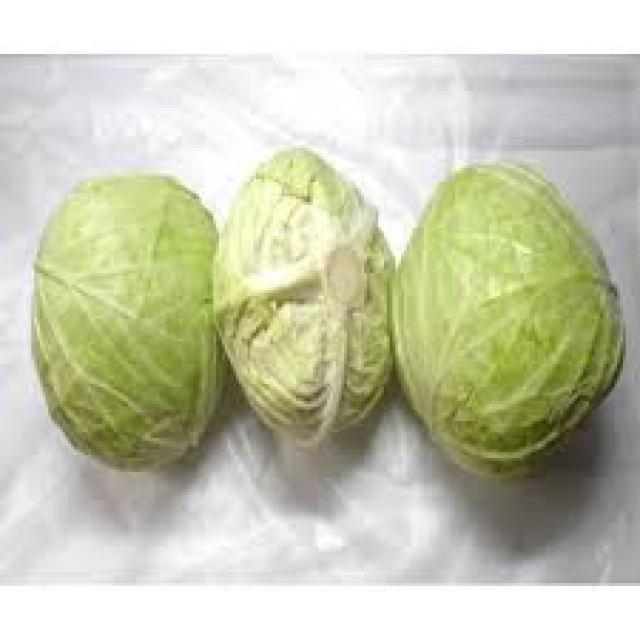Cabbage: (388, 160, 626, 480), (31, 172, 232, 470), (214, 144, 394, 450)
